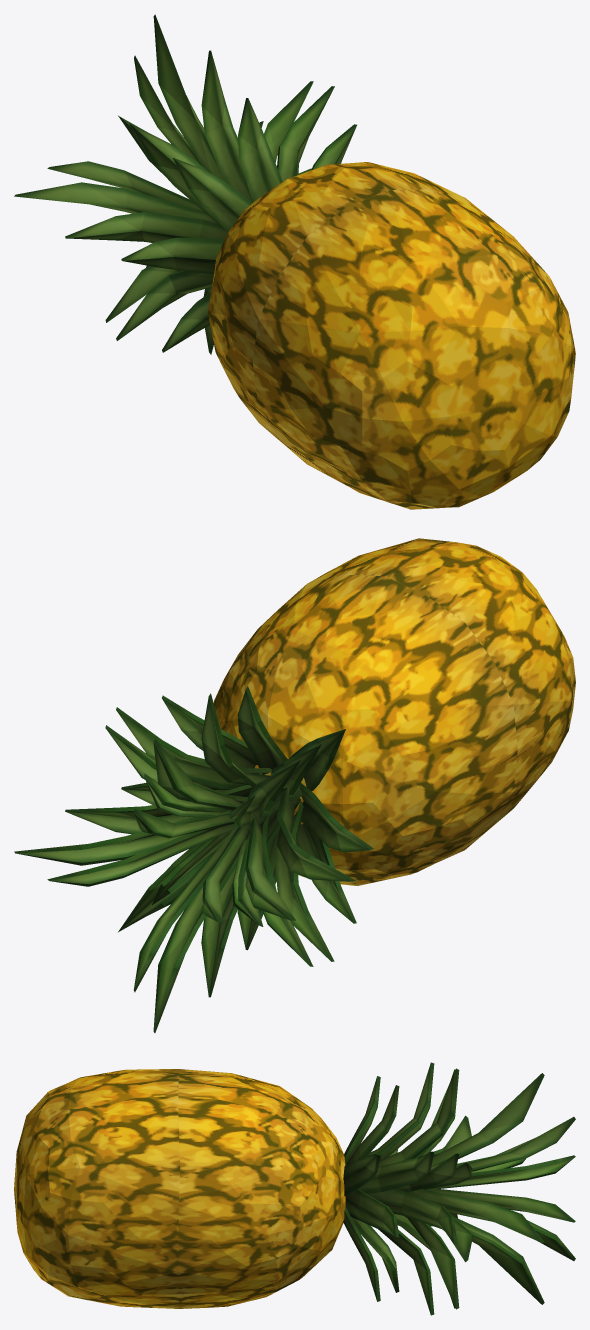
Rendered from pineapple.dae.
The picture shows the model from 3 angles, top to bottom: view 1: azimuth 30°, elevation 25°; view 2: azimuth 150°, elevation 25°; view 3: azimuth 270°, elevation 25°; orthographic projection. The views are drawn at different scales.
Parts seen in each view (by area): view 1: Icosphere_001, Plane_007, Plane_005, Plane_006, Plane_004; view 2: Icosphere_001, Plane_006, Plane_007, Plane_004, Plane_005; view 3: Icosphere_001, Plane_006, Plane_007, Plane_004, Plane_005.
Part boxes in pixels (x1,y1,x2,y2): Icosphere_001: [208, 162, 575, 509]; Plane_007: [65, 50, 334, 354]; Plane_005: [121, 98, 356, 352]; Plane_006: [14, 14, 313, 322]; Plane_004: [47, 55, 263, 267]; Icosphere_001: [213, 538, 575, 885]; Plane_006: [14, 725, 313, 1032]; Plane_007: [65, 693, 355, 997]; Plane_004: [47, 773, 263, 992]; Plane_005: [121, 686, 373, 950]; Icosphere_001: [14, 1069, 345, 1308]; Plane_006: [393, 1068, 544, 1309]; Plane_007: [345, 1062, 457, 1315]; Plane_004: [422, 1115, 575, 1262]; Plane_005: [343, 1076, 399, 1301].
Bounding box in the file's own units: 2.18 × 4.65 × 2.18.
2 materials, 2 textured.
